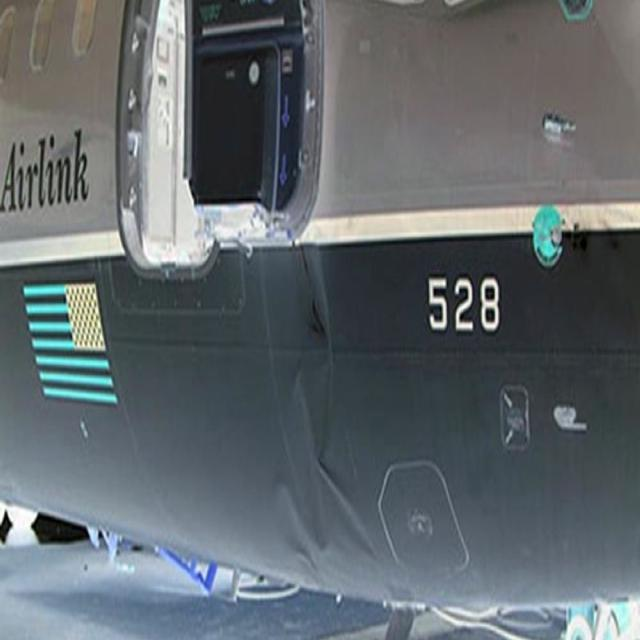dent: (278, 457, 377, 593)
